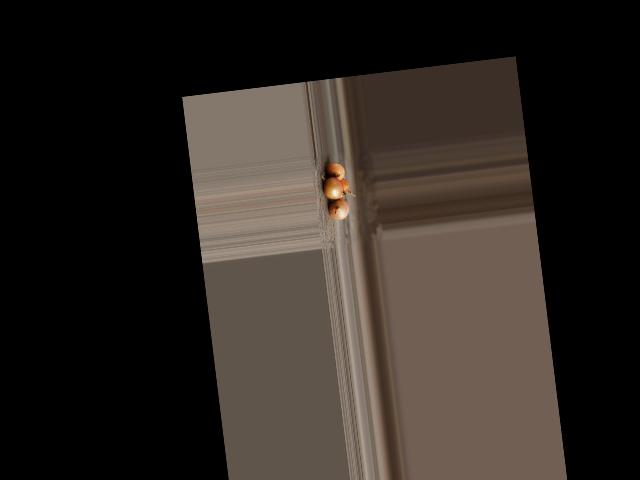onion: (334, 175, 350, 196)
